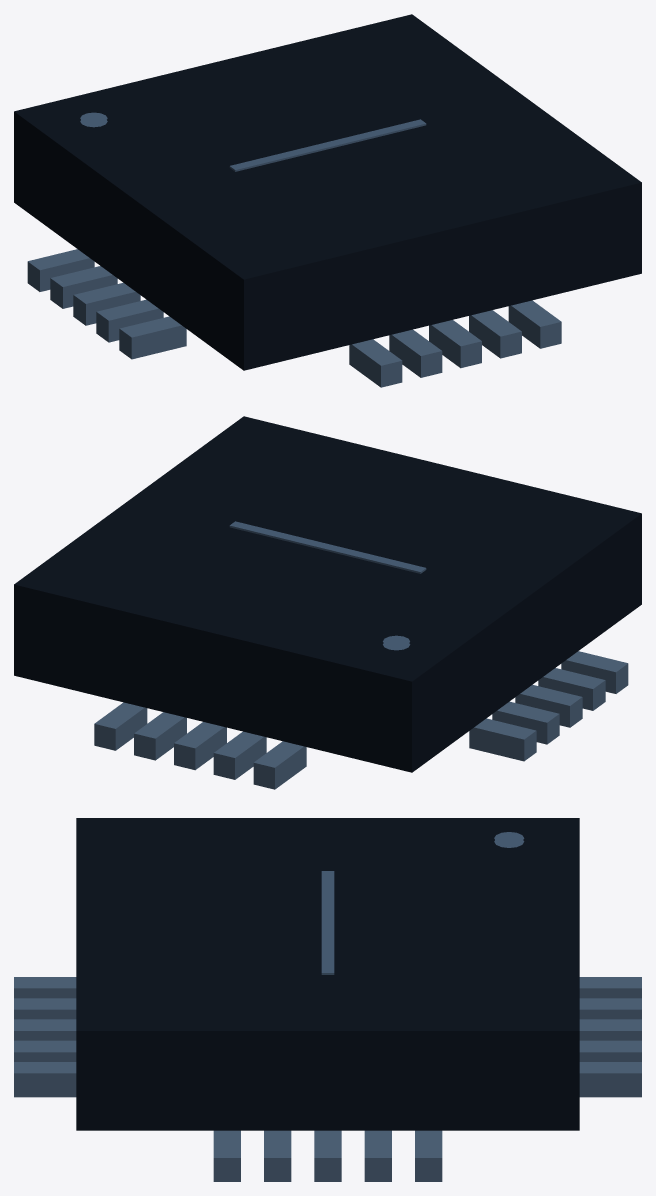
3 renders of one model, top to bottom at view 1: azimuth 30°, elevation 25°; view 2: azimuth 150°, elevation 25°; view 3: azimuth 270°, elevation 25°, orthographic. The views are drawn at different scales.
Visible parts, largest first — view 1: 084_L103_T3; view 2: 084_L103_T3; view 3: 084_L103_T3.
Part boxes in pixels (bbox=[...]): 084_L103_T3: bbox=[14, 14, 641, 387]; 084_L103_T3: bbox=[14, 416, 641, 789]; 084_L103_T3: bbox=[14, 818, 641, 1181].
Bounding box in the file's own units: 0.998 × 0.228 × 0.998.
